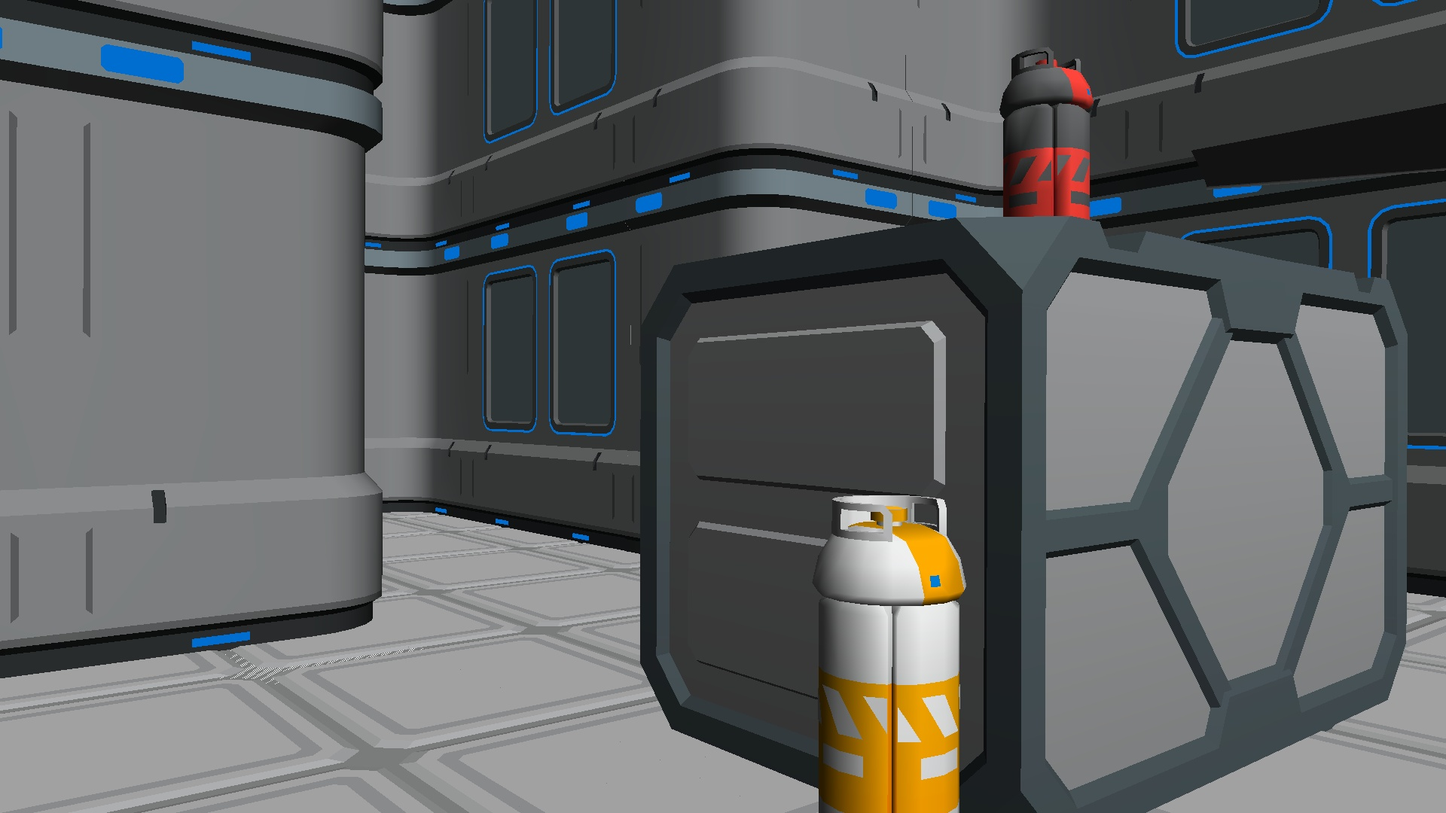red barrel: (999, 47, 1094, 220)
yellow barrel: (812, 495, 966, 813)
